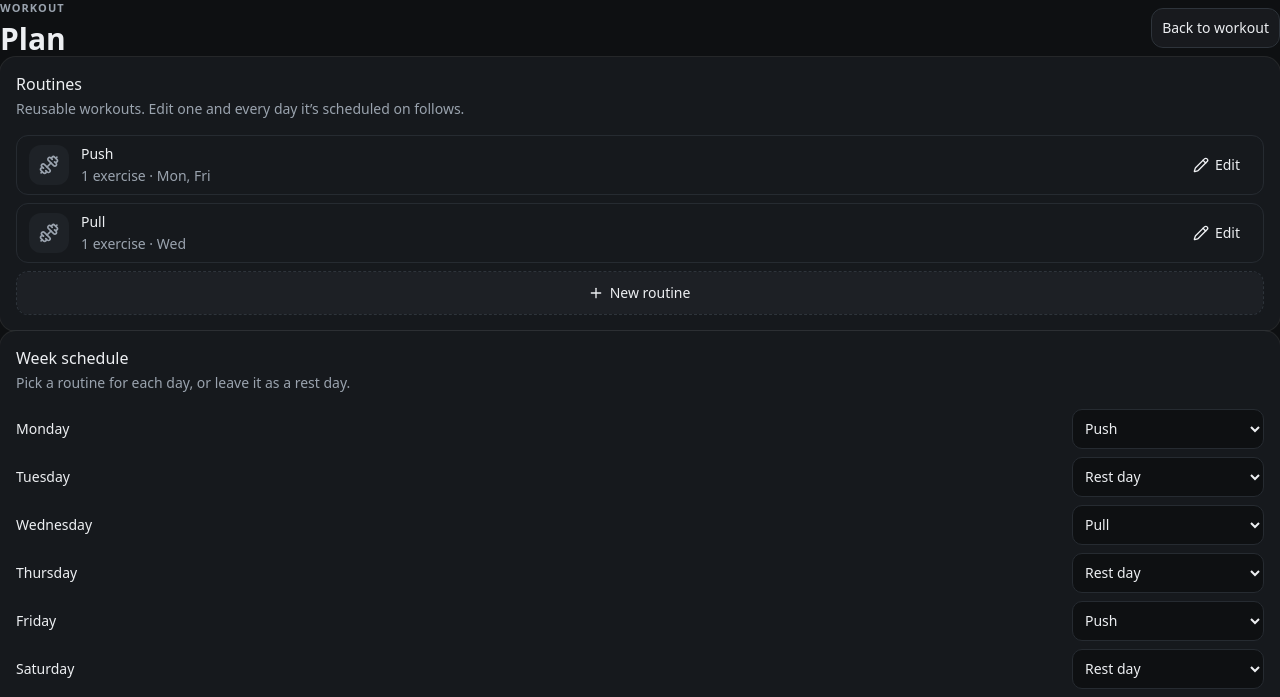
Scenario: WorkoutPlanPage › creates a routine
Click the button "New routine" at coordinates (640, 292), box [16, 270, 1264, 314]
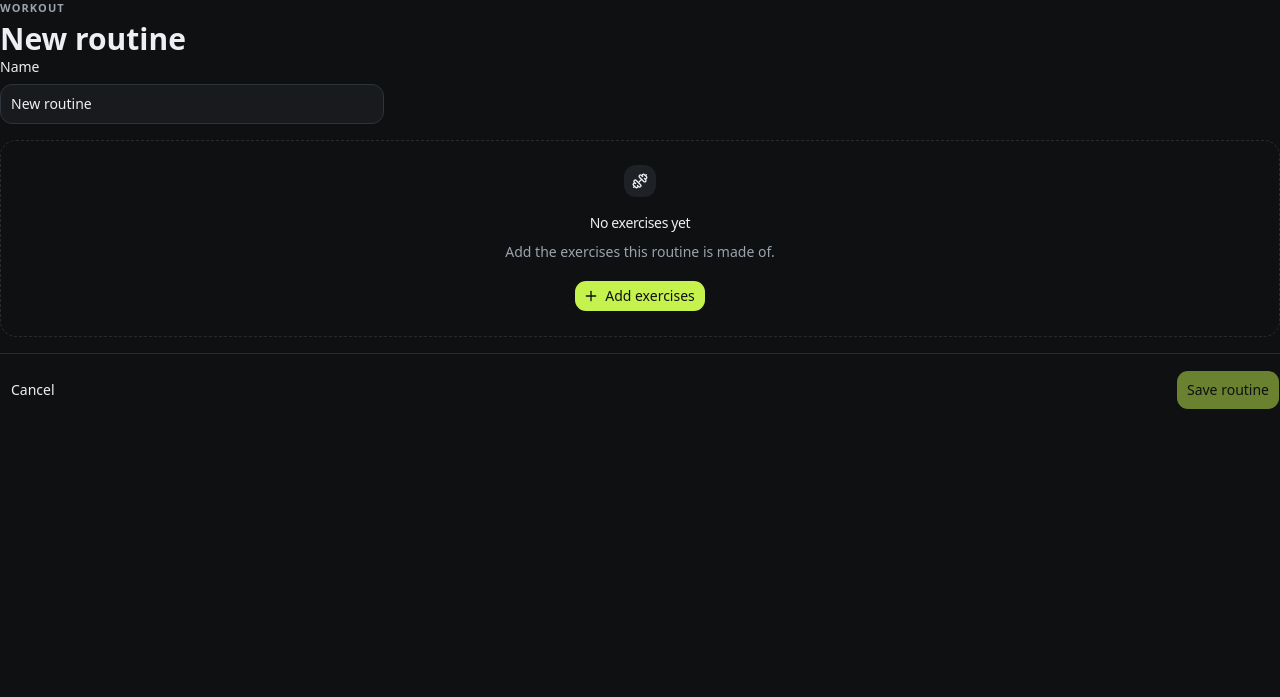
Expected: the heading "New routine" is shown, [0, 20, 186, 56]
Expected: the button "Save routine" is disabled, [1176, 370, 1279, 410]
